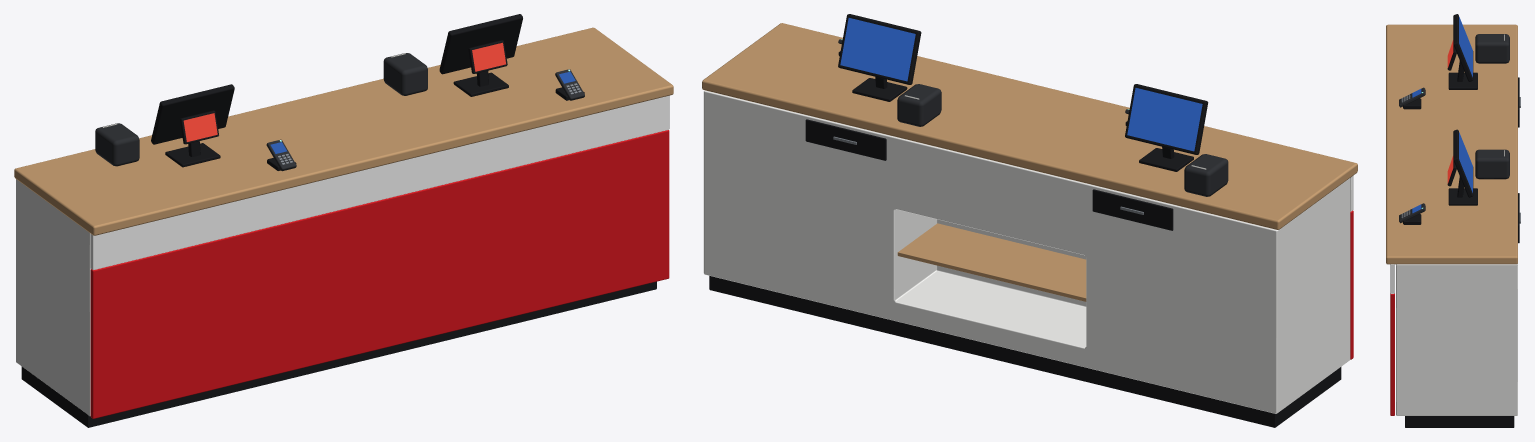
The model's file is pos-counter.glb.
The picture shows the model from 3 angles, left to right: view 1: azimuth 30°, elevation 25°; view 2: azimuth 150°, elevation 25°; view 3: azimuth 270°, elevation 25°; orthographic projection. The views are drawn at different scales.
Visible parts, largest first — view 1: BODY, LABEL, SCREEN; view 2: BODY, SCREEN; view 3: BODY, SCREEN.
Boxes of the visible parts, x1=… form: BODY: x1=14, y1=14, x2=673, y2=427; LABEL: x1=97, y1=134, x2=666, y2=415; SCREEN: x1=183, y1=42, x2=575, y2=153; BODY: x1=702, y1=14, x2=1357, y2=427; SCREEN: x1=840, y1=18, x2=1202, y2=151; BODY: x1=1386, y1=14, x2=1520, y2=427; SCREEN: x1=1412, y1=16, x2=1472, y2=213.
Bounding box in the file's own units: 3.02 × 1.38 × 0.7399.
